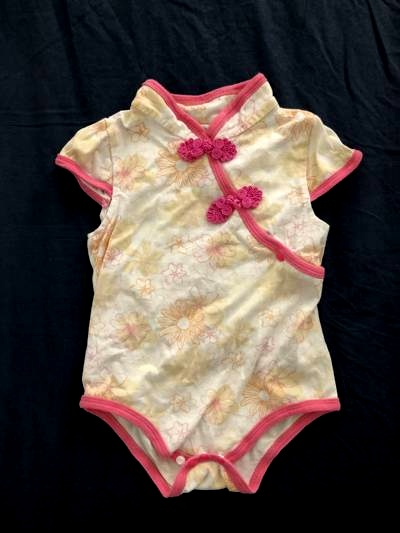Body: (47, 58, 373, 504)
